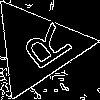R: (12, 22, 74, 77)
